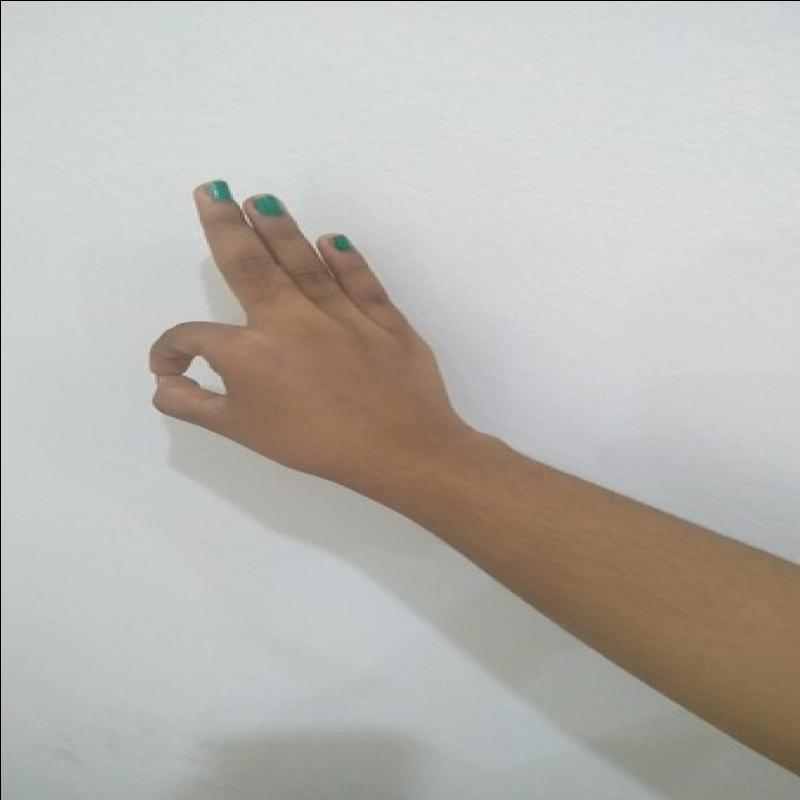Mudraakhyam: (130, 158, 455, 482)
